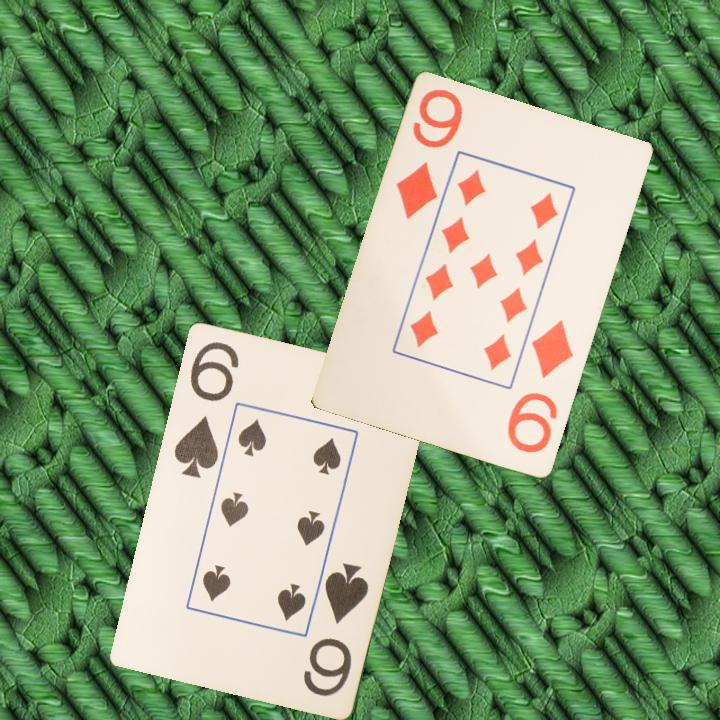6s: (170, 337, 242, 481), (299, 558, 372, 699)
9d: (504, 316, 577, 457), (392, 86, 466, 223)
